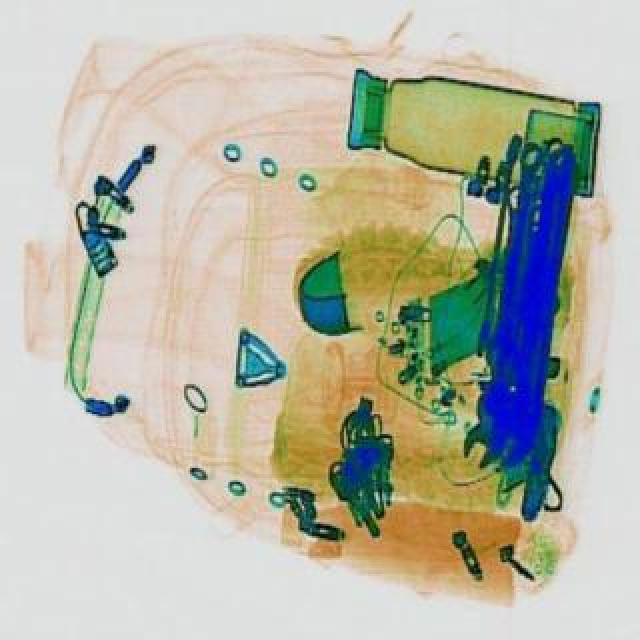wrench: (458, 146, 550, 474)
